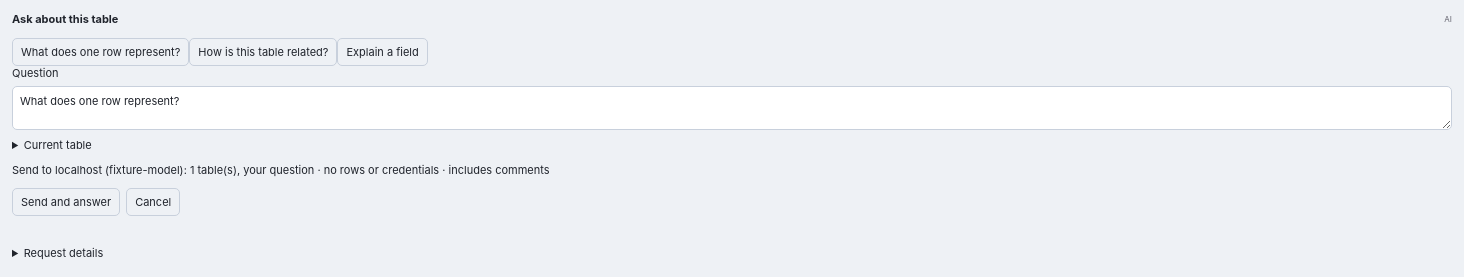
Test: task-first table understanding › enforces the absolute expiry on send
Click the button "Send and answer": (66,202) [12,188,120,216]
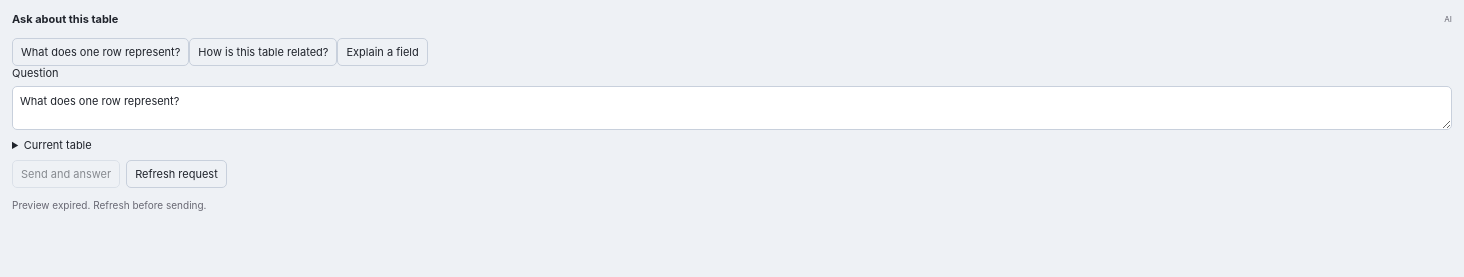
Expected: the message shows "Preview expired", [12,199,206,211]
